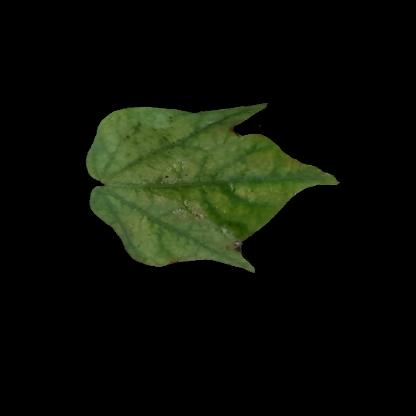curl_stage1: (111, 127, 223, 210), (223, 150, 283, 216), (155, 217, 205, 259), (126, 206, 150, 260)
